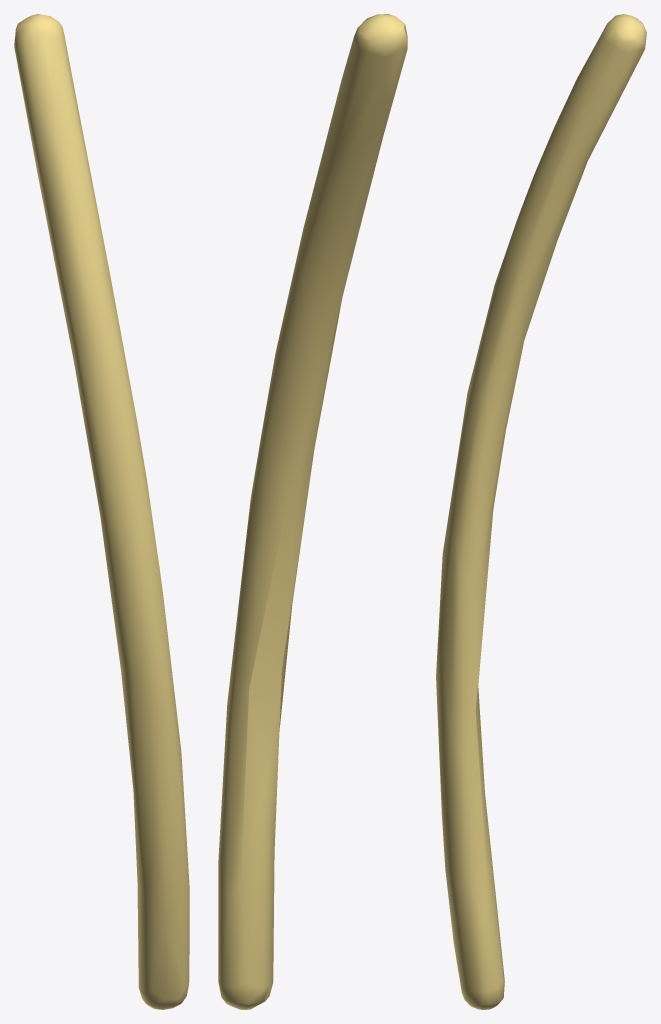
The model's file is fma52733_fj3929.glb.
The picture shows the model from 3 angles, left to right: view 1: azimuth 30°, elevation 25°; view 2: azimuth 210°, elevation 25°; view 3: azimuth 270°, elevation 25°; orthographic projection. The views are drawn at different scales.
Visible parts, largest first — view 1: FMA52733_FJ3929; view 2: FMA52733_FJ3929; view 3: FMA52733_FJ3929.
Part boxes in pixels (x1,y1,x2,y2): FMA52733_FJ3929: [14, 14, 189, 1009]; FMA52733_FJ3929: [218, 14, 407, 1009]; FMA52733_FJ3929: [436, 14, 646, 1009].
Size of the model in its own units: 0.00154 by 0.0136 by 0.00269.
